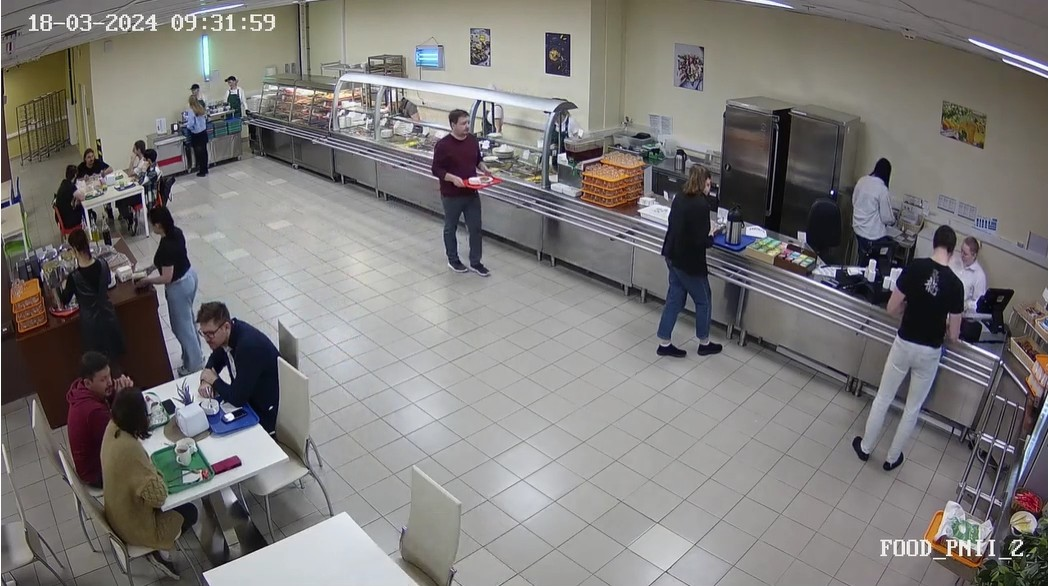Na_Kasse: (788, 215, 993, 468)
Ne_v_Ocheredi: (118, 204, 244, 341), (48, 229, 169, 351)
Personal: (847, 155, 906, 270), (957, 220, 995, 307), (216, 72, 252, 114)
Vybiraet: (643, 157, 733, 374), (425, 104, 499, 288), (183, 88, 212, 177)
Za_Stolom: (195, 297, 302, 428), (97, 382, 172, 556), (37, 339, 125, 483), (50, 161, 87, 236), (133, 148, 173, 216), (67, 145, 118, 178), (121, 131, 147, 182)
